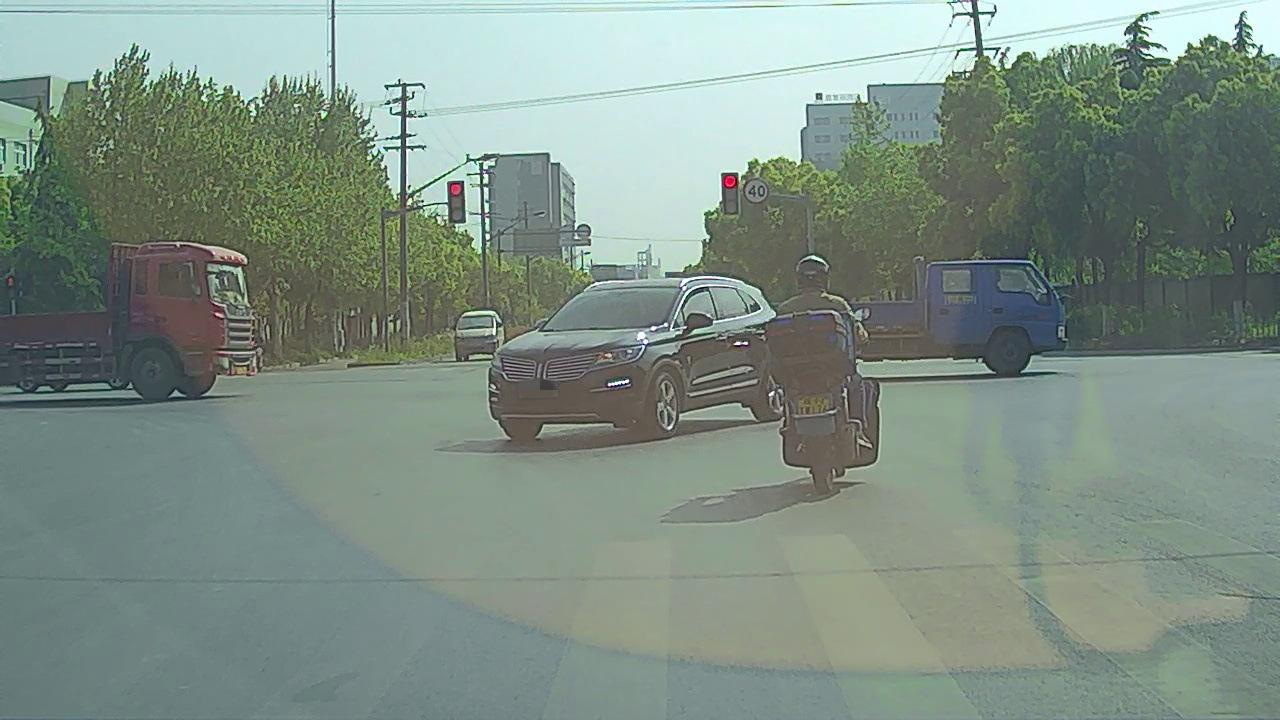traffic_light: (448, 181, 465, 222), (723, 173, 738, 214)
